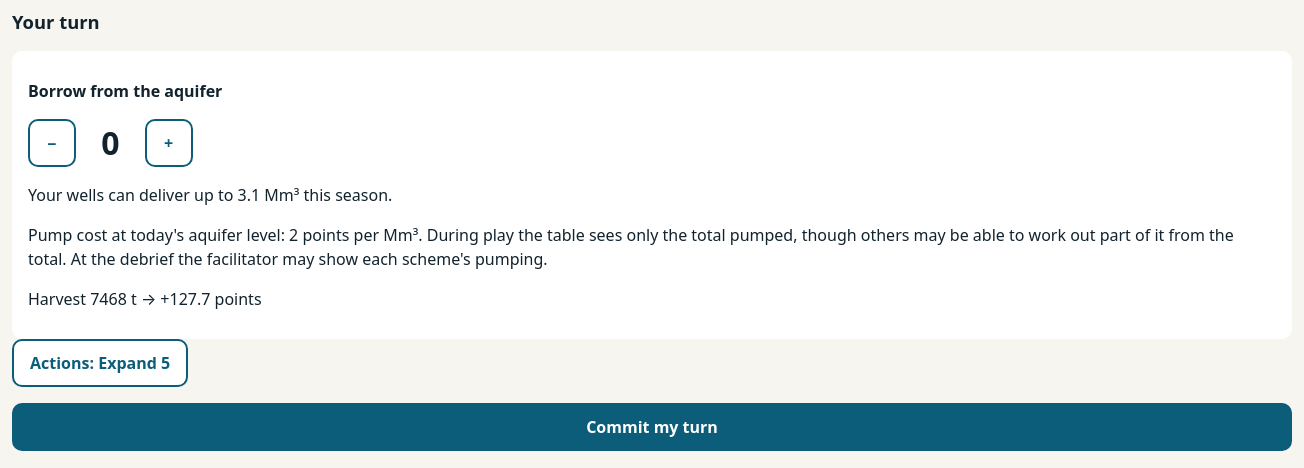
Test: S6 private turn › steps through the offered pump levels up to the cap, which may be fractional (ADR 0008)
Expected: the button named "One less" is disabled, x1=28 y1=119 x2=76 y2=167
Click the button named "One more" at (169, 143), box x1=145 y1=119 x2=193 y2=167
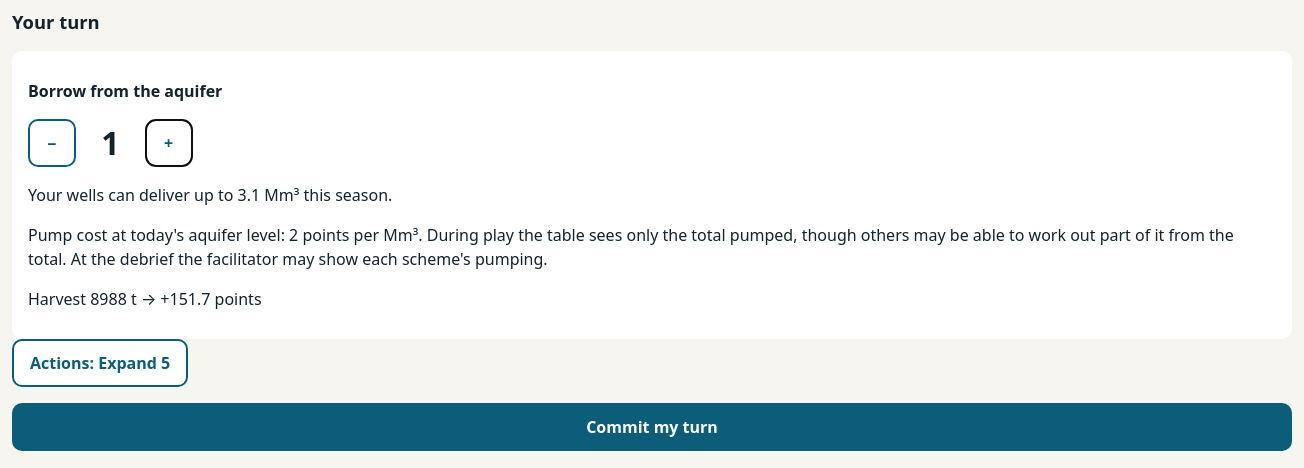
Click the button named "One more" at (169, 143), box x1=145 y1=119 x2=193 y2=167
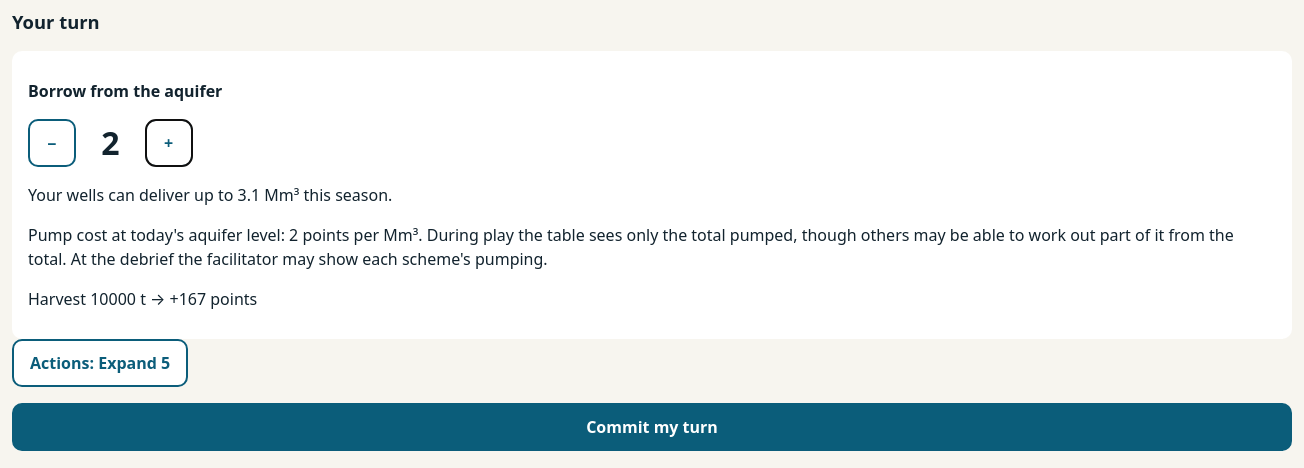
Click the button named "One more" at (169, 143), box x1=145 y1=119 x2=193 y2=167
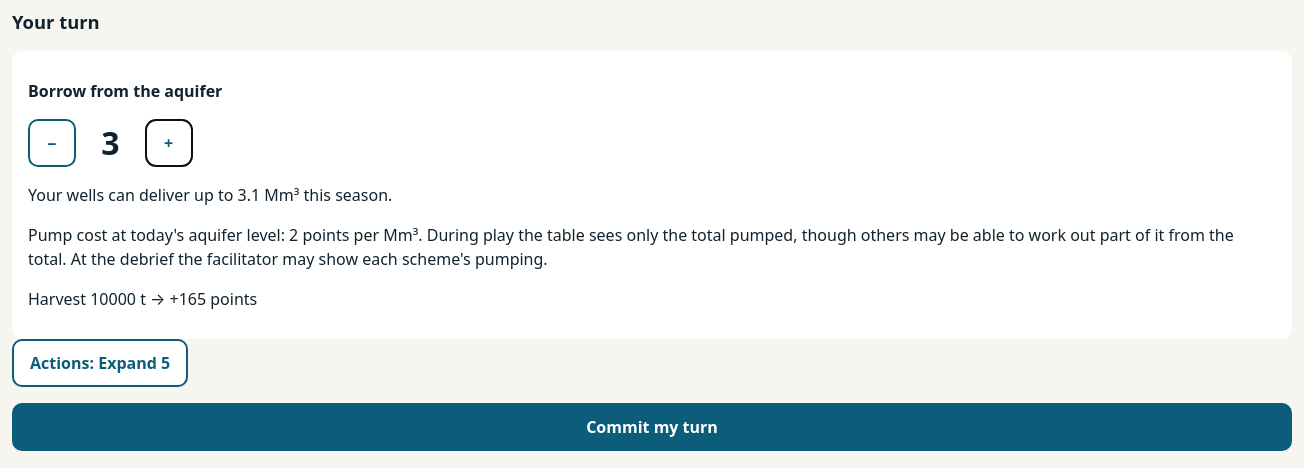
Click the button named "One more" at (169, 143), box x1=145 y1=119 x2=193 y2=167
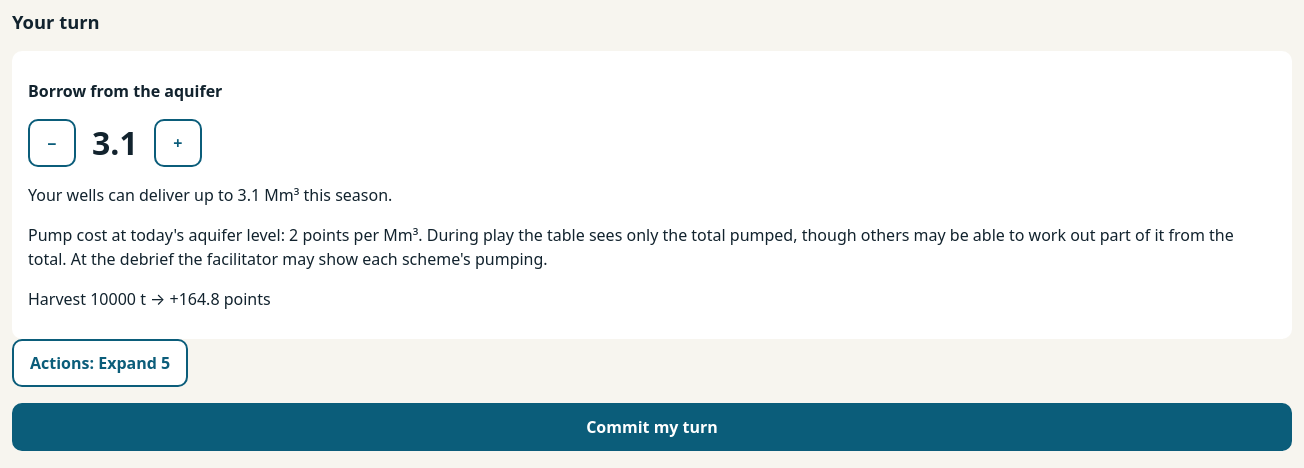
Expected: the text with test id "pumps" reads "3.1", x1=92 y1=121 x2=138 y2=164
Expected: the button named "One more" is disabled, x1=154 y1=119 x2=202 y2=167
